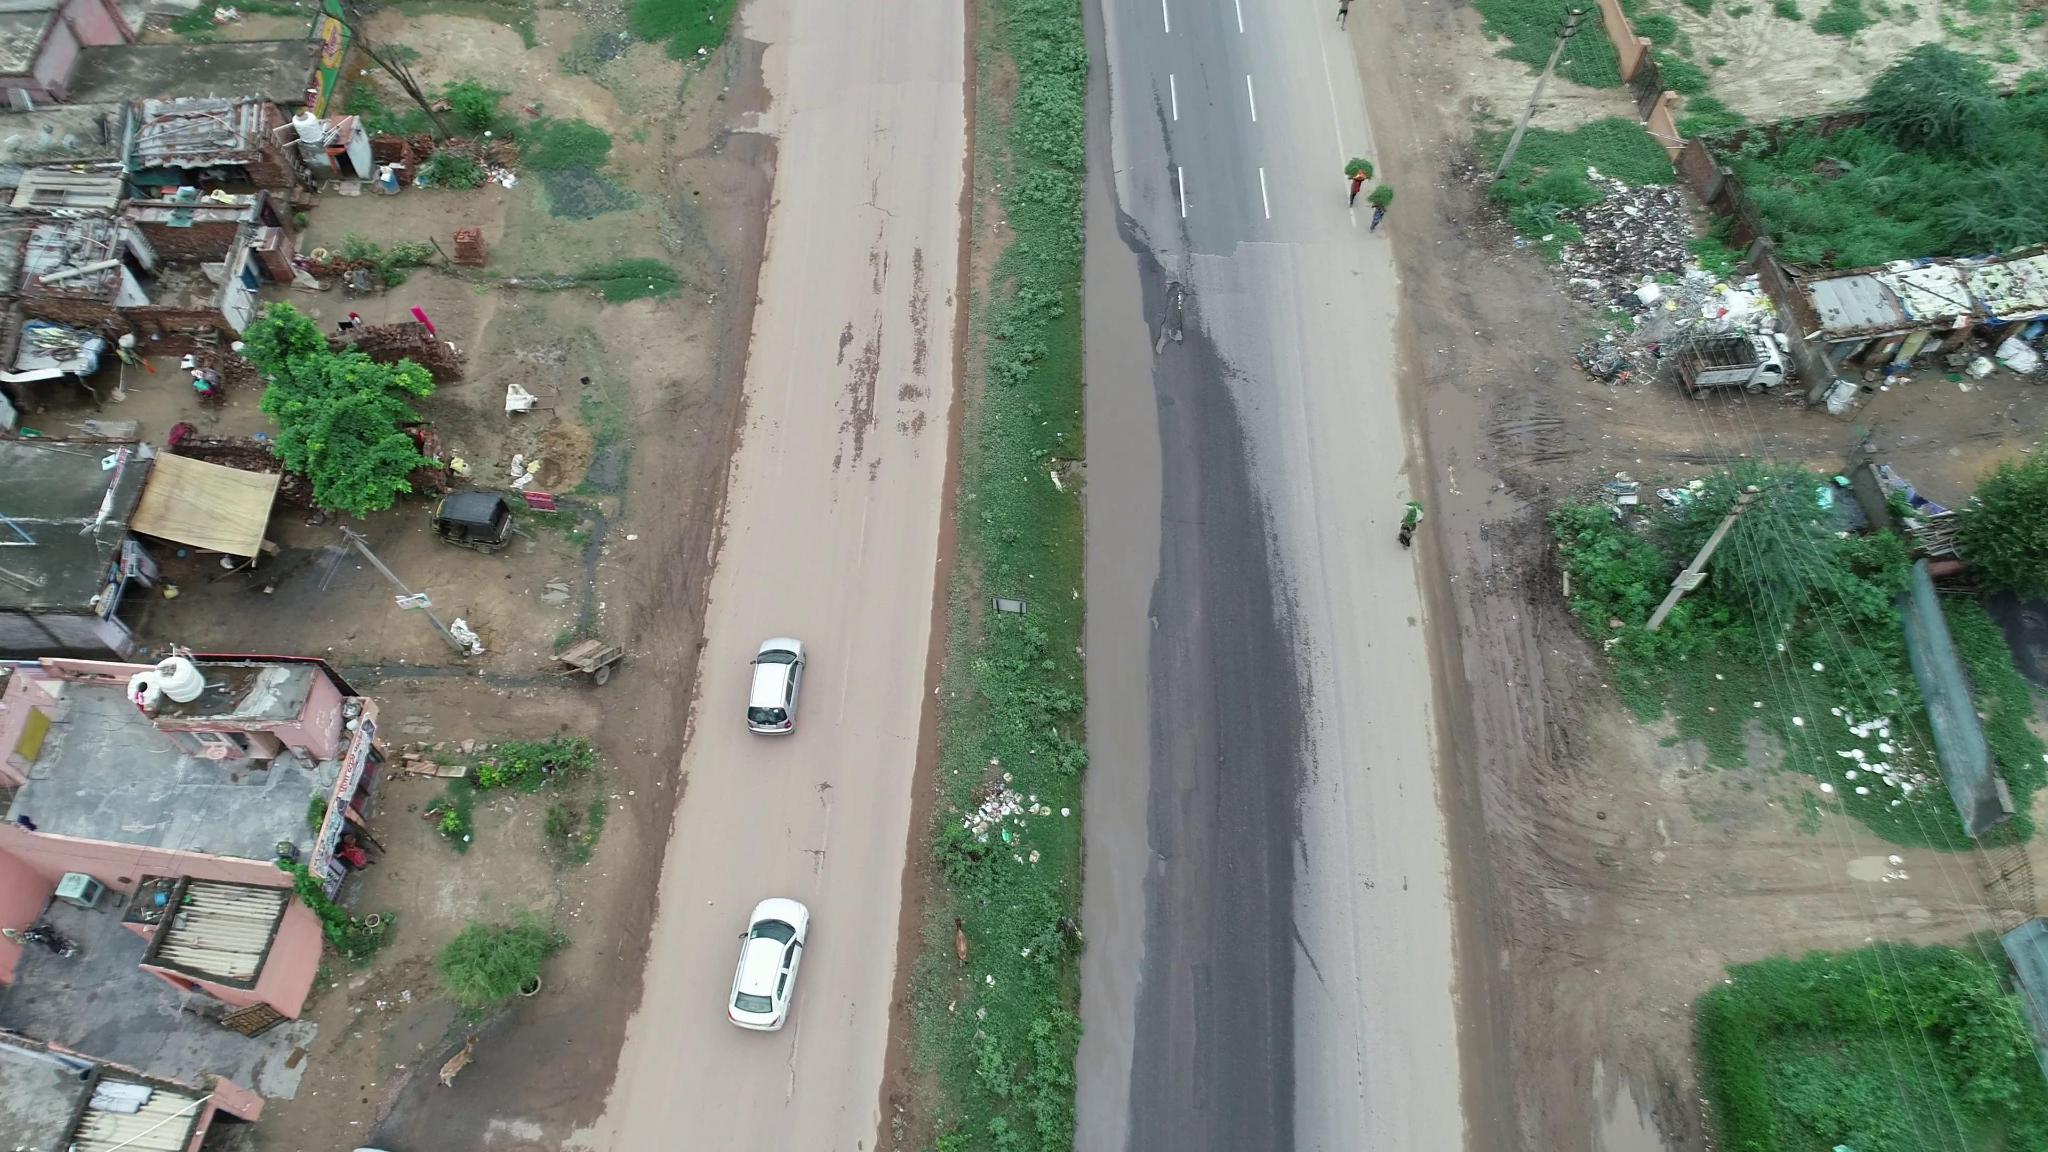Potholes: (1125, 241, 1217, 369)
Ravelling: (817, 245, 948, 499)
Waterlogging: (1059, 385, 1225, 966)
